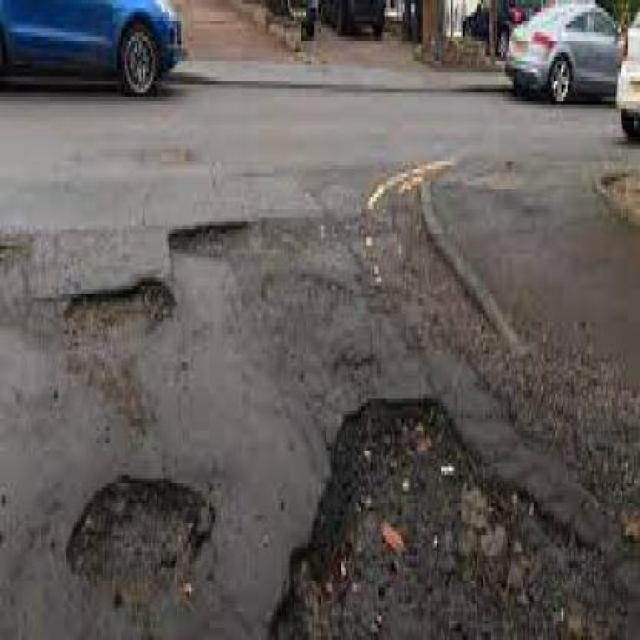pothole: (58, 458, 215, 596), (56, 261, 175, 342), (161, 205, 304, 258)
